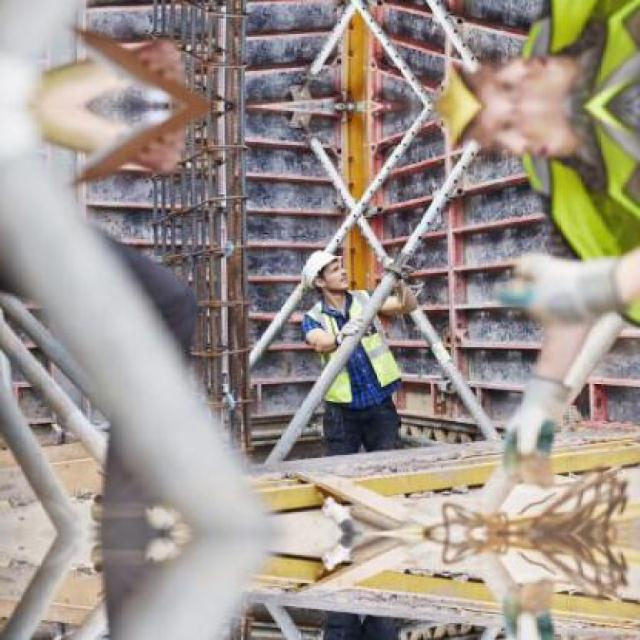helmet: (423, 106, 586, 162), (423, 51, 586, 106), (301, 245, 348, 296)
